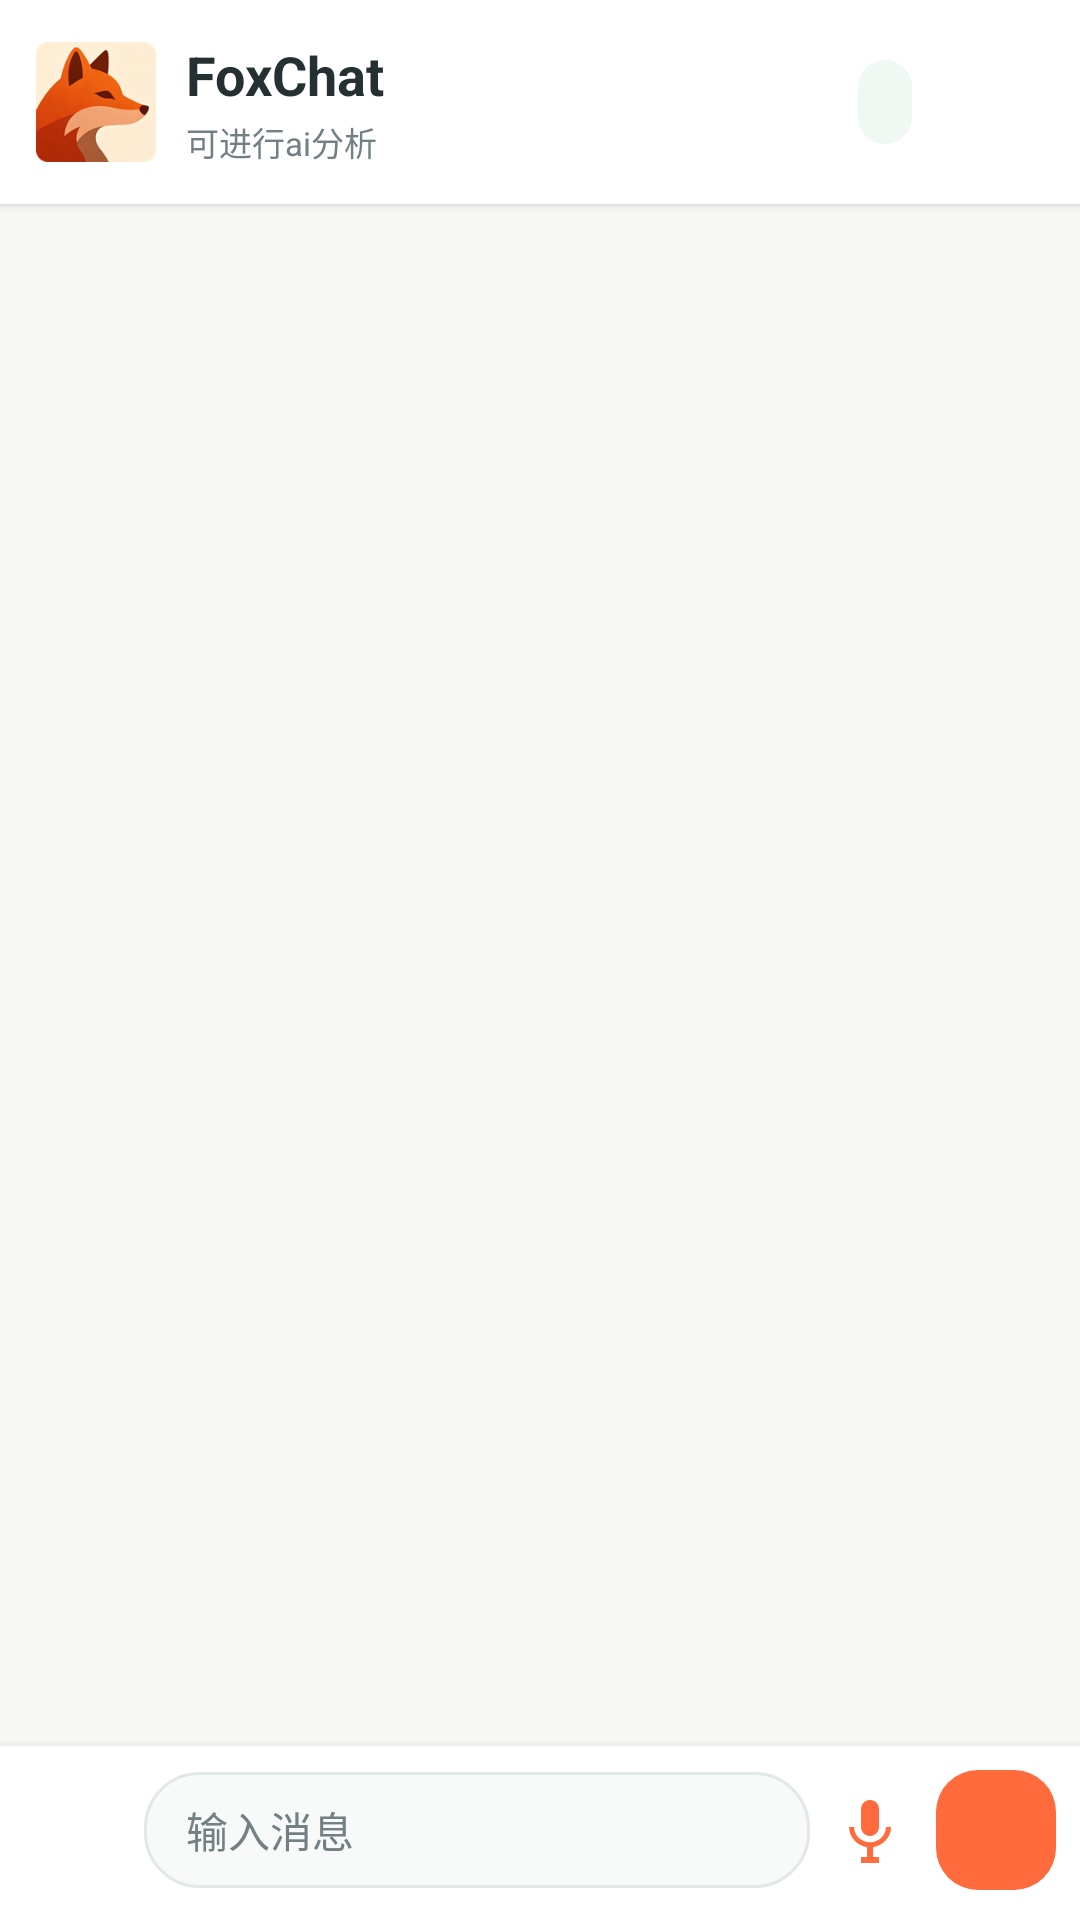

Icons on this 1080 × 1920 Android screen, each with the point to tap as (x=x, y=y):
按住录音: (x=870, y=1831)
